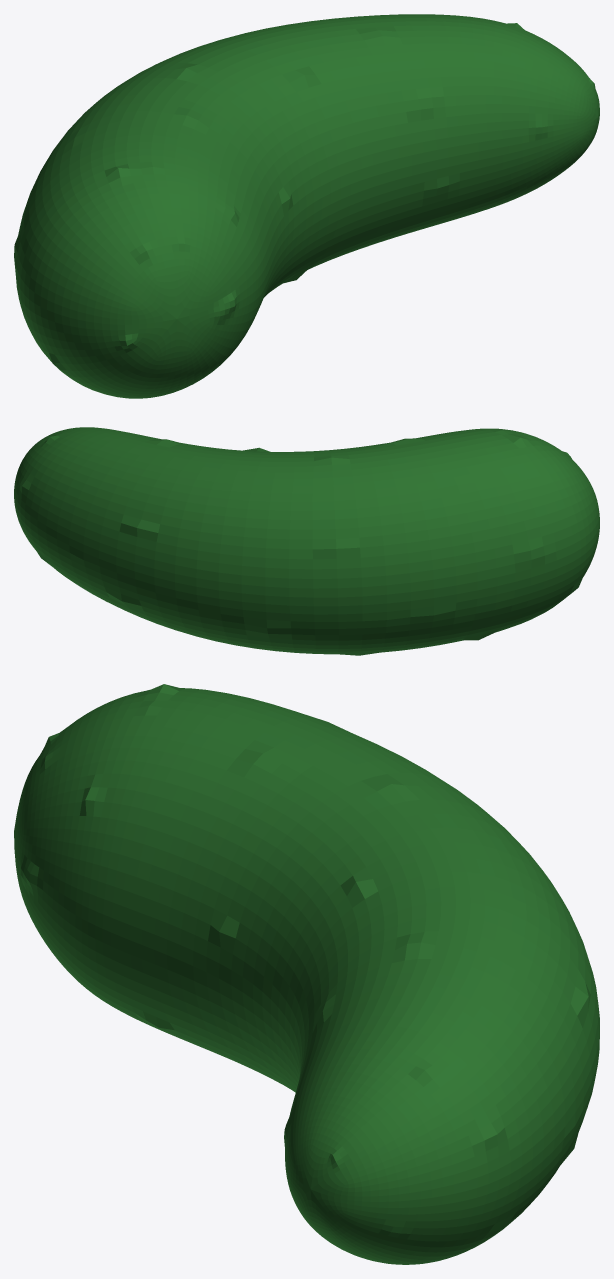
Rendered from pickle.fbx.
3 renders of one model, top to bottom at view 1: azimuth 30°, elevation 25°; view 2: azimuth 150°, elevation 25°; view 3: azimuth 270°, elevation 25°, orthographic. The views are drawn at different scales.
Visible parts, largest first — view 1: Null HyperNURBS; view 2: Null HyperNURBS; view 3: Null HyperNURBS.
Part boxes in pixels (x1,y1,x2,y2): Null HyperNURBS: (14,14,599,398); Null HyperNURBS: (14,427,599,655); Null HyperNURBS: (14,684,599,1264).
Size of the model in its own units: 133 by 48.91 by 80.57.
